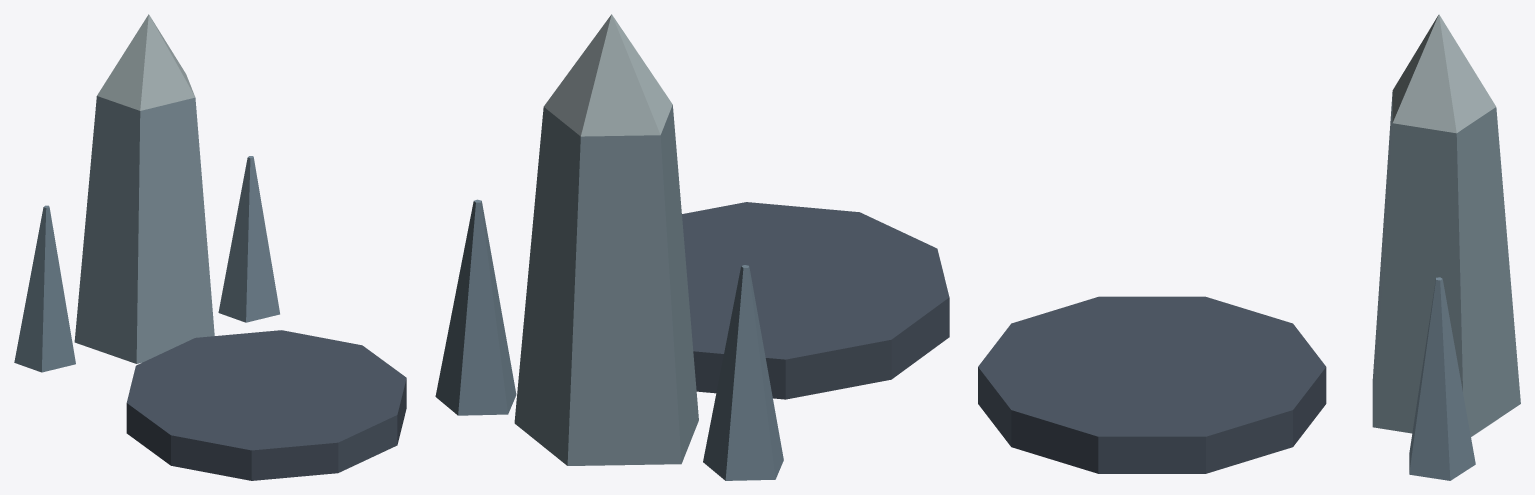
The model's file is glacier-landmark.glb.
3 renders of one model, left to right at view 1: azimuth 30°, elevation 25°; view 2: azimuth 150°, elevation 25°; view 3: azimuth 270°, elevation 25°, orthographic. The views are drawn at different scales.
Visible parts, largest first — view 1: glacier-landmark; view 2: glacier-landmark; view 3: glacier-landmark.
Boxes of the visible parts, bbox=[...] form: glacier-landmark: bbox=[14, 14, 406, 480]; glacier-landmark: bbox=[435, 14, 949, 480]; glacier-landmark: bbox=[978, 14, 1520, 480].
Size of the model in its own units: 1.78 by 2.1 by 2.65.
